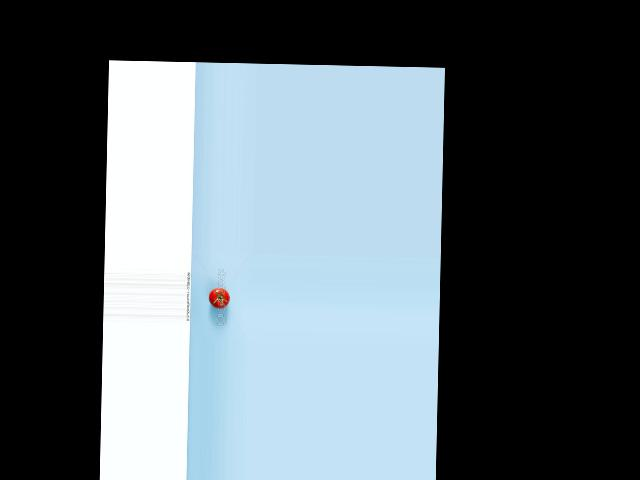tomato: (207, 287, 229, 308)
